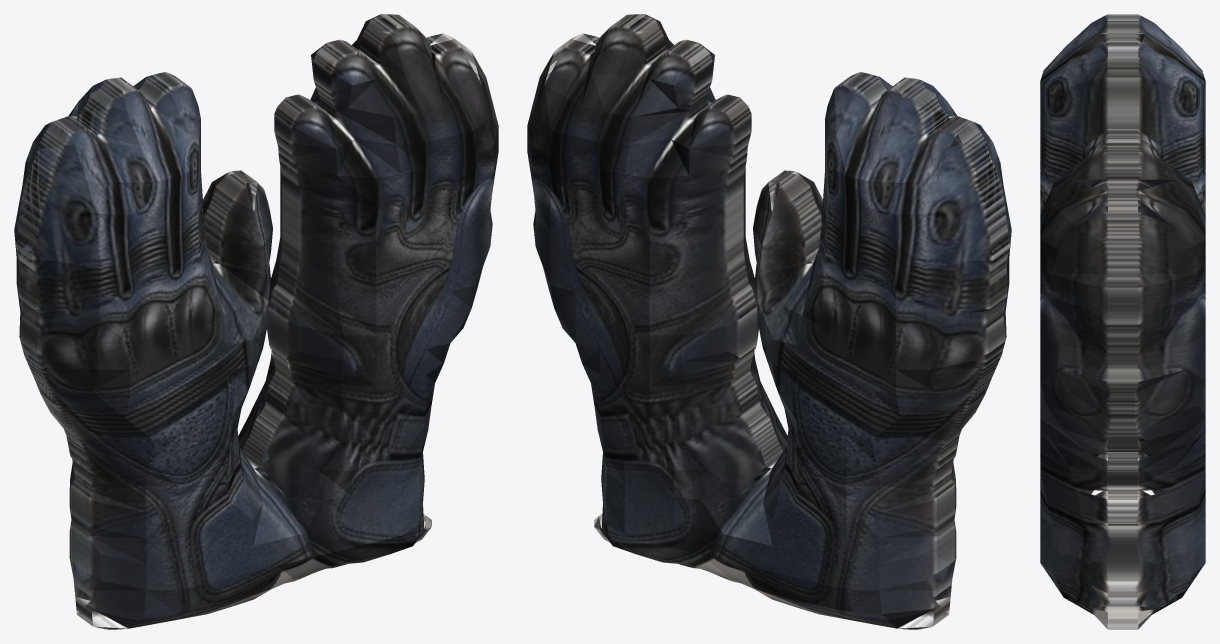
Rendered from held-apex-sport-glove-097.glb.
3 views of the same model, side by side, from view 1: azimuth 30°, elevation 25°; view 2: azimuth 150°, elevation 25°; view 3: azimuth 270°, elevation 25° (orthographic). The views are drawn at different scales.
Parts seen in each view (by area): view 1: world; view 2: world; view 3: world.
Part boxes in pixels (x1,y1,x2,y2): world: [14, 14, 498, 629]; world: [527, 14, 1011, 629]; world: [1040, 14, 1205, 629].
Bounding box in the file's own units: 0.8952 × 1 × 0.3.
Materials: 1 (1 with a texture image).
